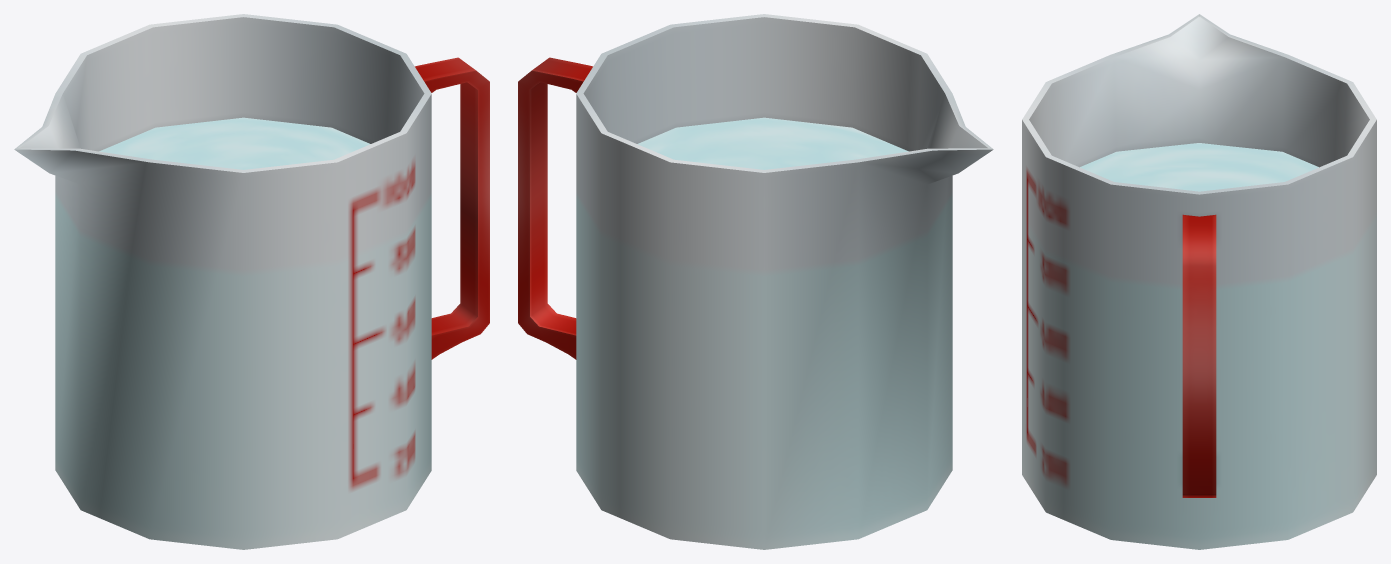
The model's file is jsf_Measuringcup_02.fbx.
The picture shows the model from 3 angles, left to right: view 1: azimuth 30°, elevation 25°; view 2: azimuth 150°, elevation 25°; view 3: azimuth 270°, elevation 25°; orthographic projection. The views are drawn at different scales.
Visible parts, largest first — view 1: jsf_Measuringcup_02; view 2: jsf_Measuringcup_02; view 3: jsf_Measuringcup_02.
Part boxes in pixels (box(x1,y1,x2,y2)): jsf_Measuringcup_02: box(14, 14, 489, 549); jsf_Measuringcup_02: box(518, 14, 993, 549); jsf_Measuringcup_02: box(1022, 14, 1376, 549).
Size of the model in its own units: 19 by 14.66 by 13.26.
